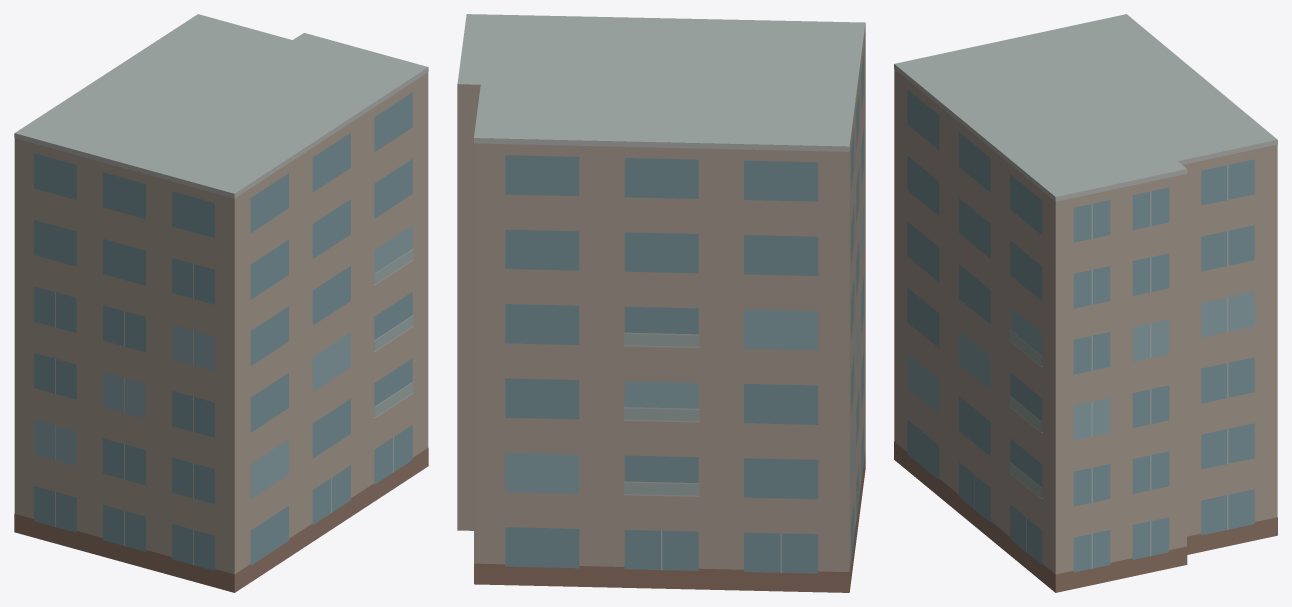
The model's file is survey-upis-32836993.glb.
3 renders of one model, left to right at view 1: azimuth 30°, elevation 25°; view 2: azimuth 150°, elevation 25°; view 3: azimuth 270°, elevation 25°, orthographic. The views are drawn at different scales.
Visible parts, largest first — view 1: survey-upis-32836993.tmp; view 2: survey-upis-32836993.tmp; view 3: survey-upis-32836993.tmp.
Part boxes in pixels (<box>): survey-upis-32836993.tmp: <box>14,14,428,592</box>; survey-upis-32836993.tmp: <box>457,14,865,592</box>; survey-upis-32836993.tmp: <box>894,14,1277,592</box>.
Size of the model in its own units: 19.89 by 20.05 by 17.62.
